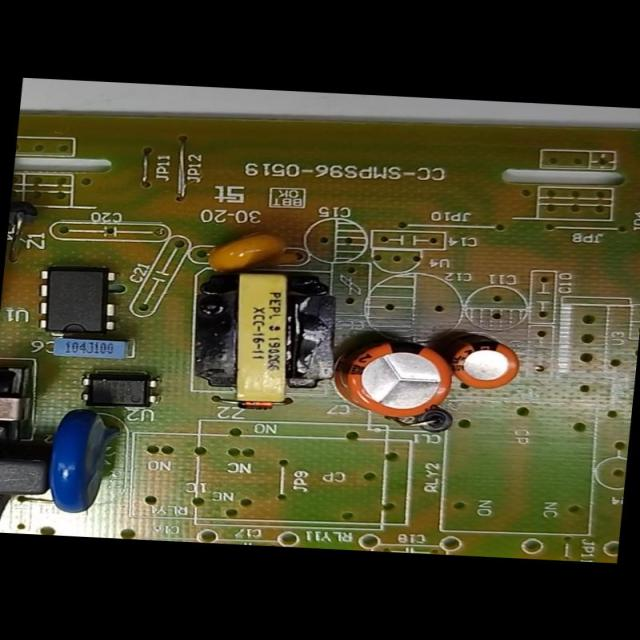Cap1: (329, 328, 459, 429)
Cap2: (432, 324, 532, 399)
MOSFET: (26, 259, 131, 342)
Mov: (38, 401, 130, 520)
Resistor: (0, 489, 11, 533)
Transformer: (186, 260, 346, 420), (0, 357, 42, 456)
